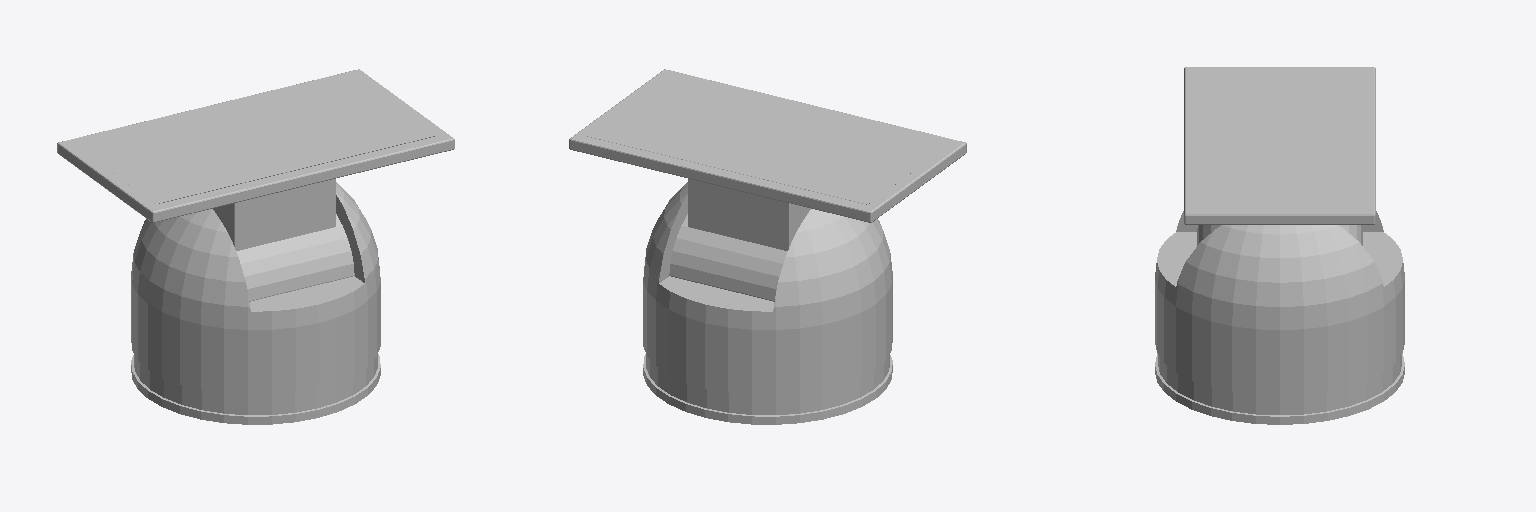
File: 505orta.obj
3 views of the same model, side by side, from view 1: azimuth 30°, elevation 25°; view 2: azimuth 150°, elevation 25°; view 3: azimuth 270°, elevation 25° (orthographic).
Visible parts, largest first — view 1: Cube.061_Cube.082; view 2: Cube.061_Cube.082; view 3: Cube.061_Cube.082.
Part boxes in pixels (x1,y1,x2,y2): Cube.061_Cube.082: (57, 69, 454, 424); Cube.061_Cube.082: (569, 69, 966, 424); Cube.061_Cube.082: (1155, 67, 1404, 424).
Bounding box in the file's own units: 2.79 × 2.05 × 2.